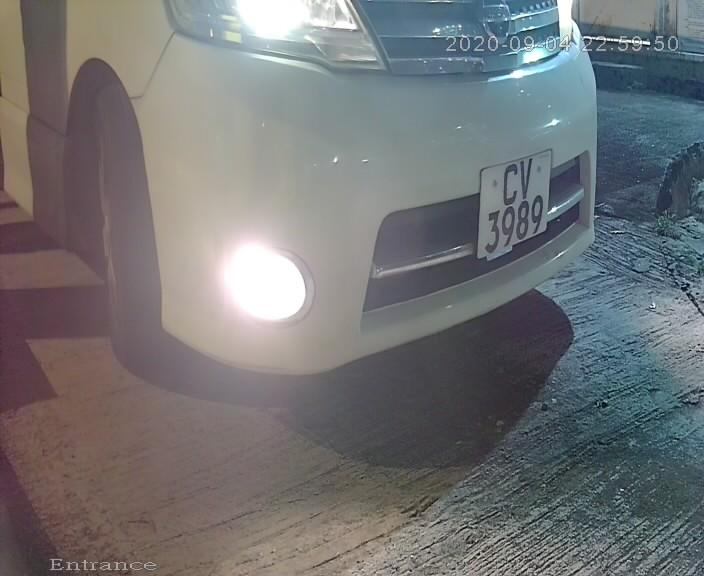License Plate: (469, 127, 557, 276)
